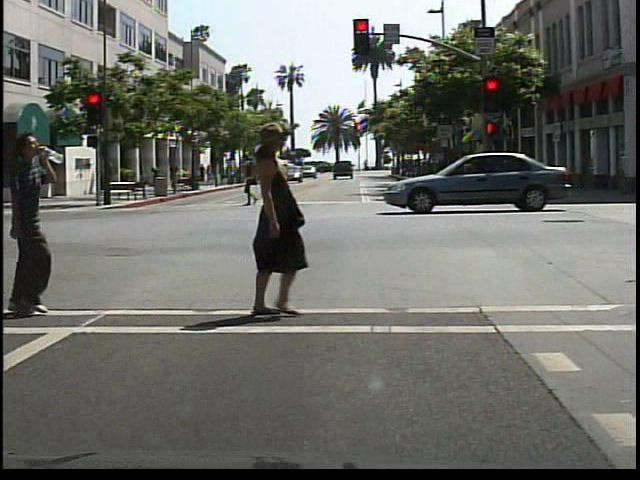person: (226, 129, 335, 326), (3, 130, 62, 319), (239, 155, 266, 209), (147, 165, 168, 193), (167, 161, 183, 192)
